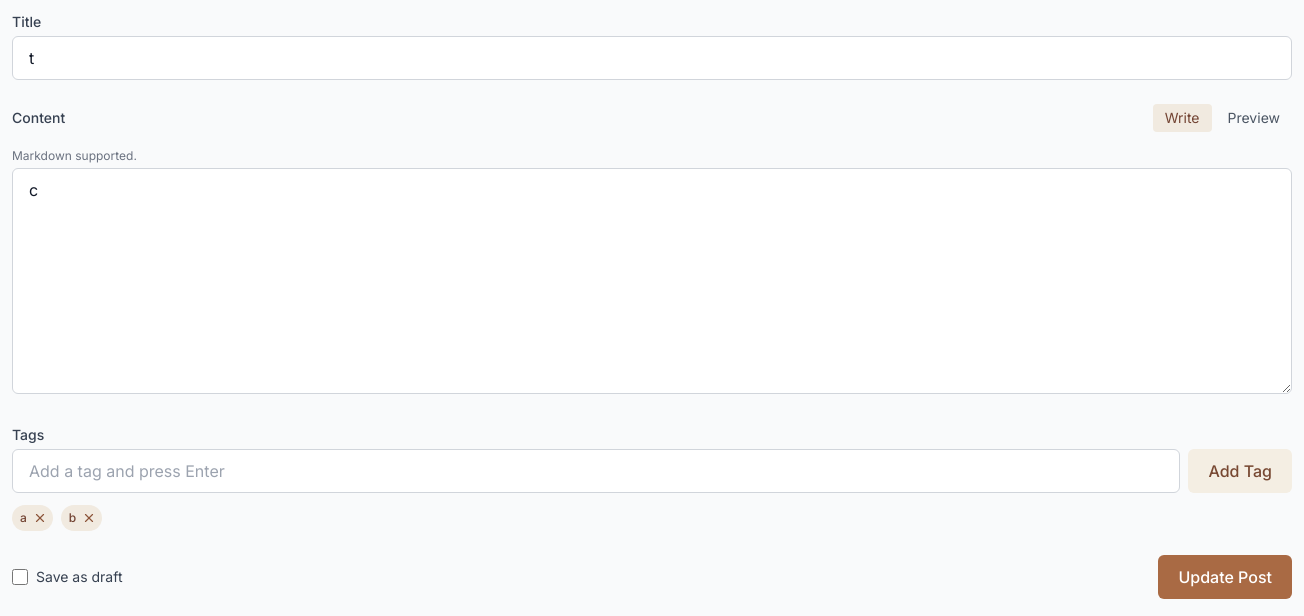
Test case: PostForm preview › can remove a tag via its accessible button
Click the button named "Remove tag a".
click(40, 518)  # box x1=31 y1=509 x2=49 y2=527
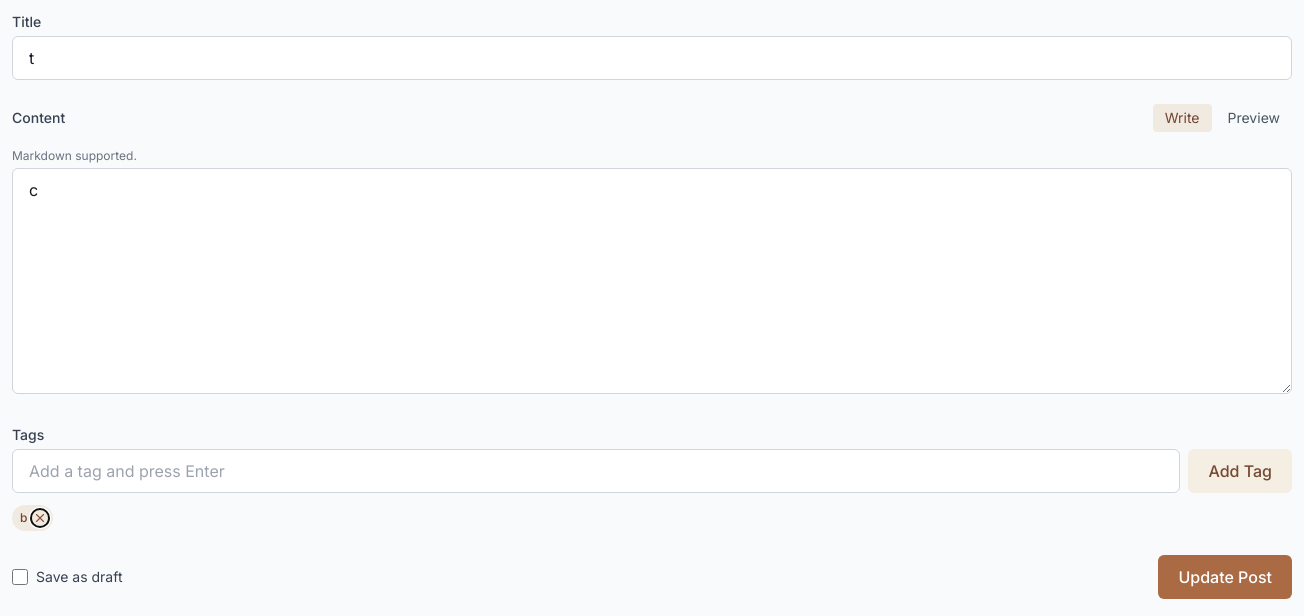
Expected: the button named "Remove tag b" is shown, x1=31 y1=509 x2=49 y2=527
